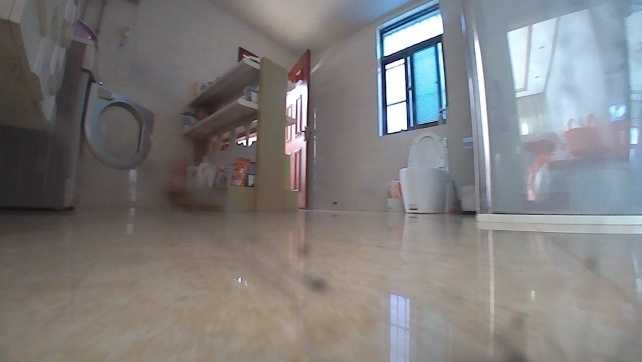toilet: (394, 132, 453, 213)
